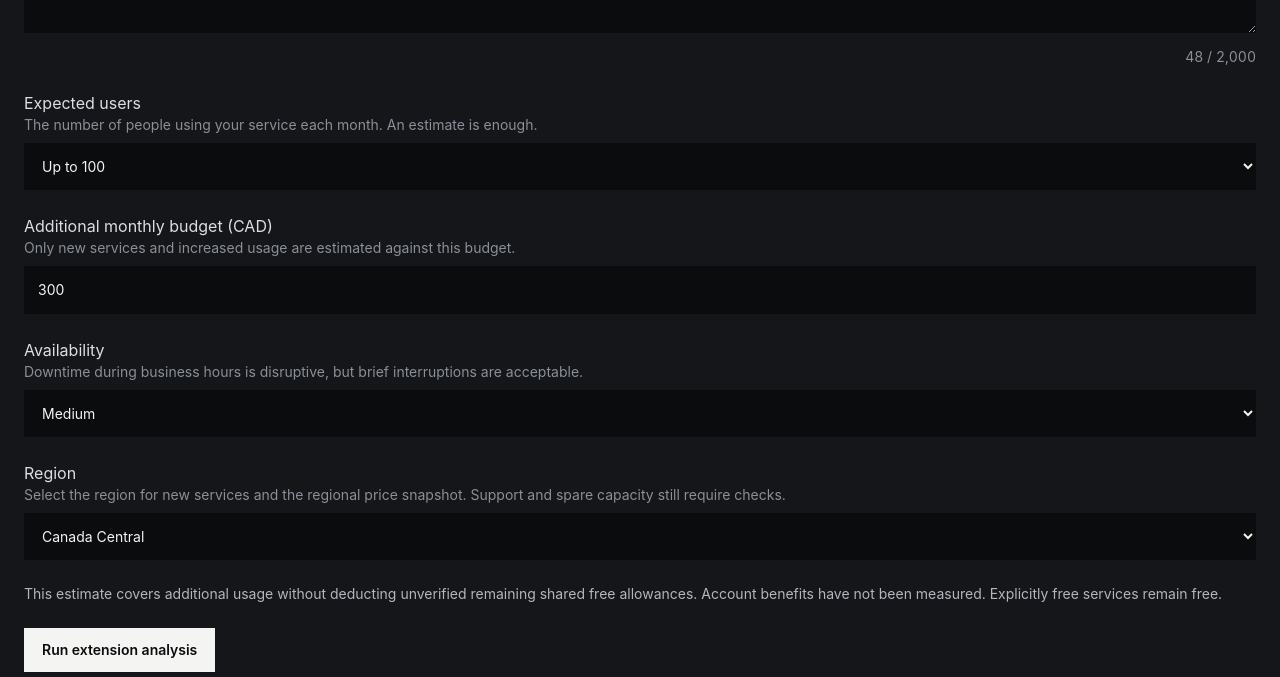
retains input and maps claude-unavailable without server details
(page scrolled)
Click the button "Run extension analysis" at (120, 650), box 24,628 -> 215,672
(page scrolled)
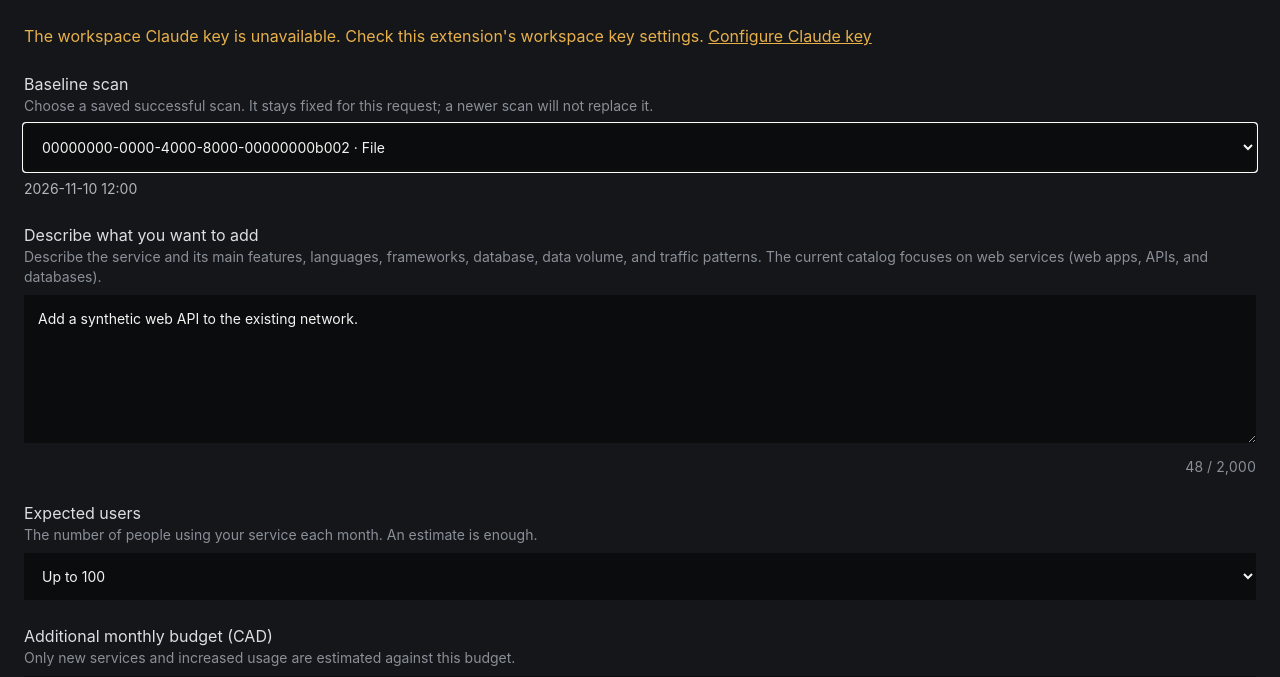
Expected: the text box holds "Add a synthetic web API to the existing network.", 24,295 -> 1256,443
Expected: the message is shown, 24,26 -> 872,46
